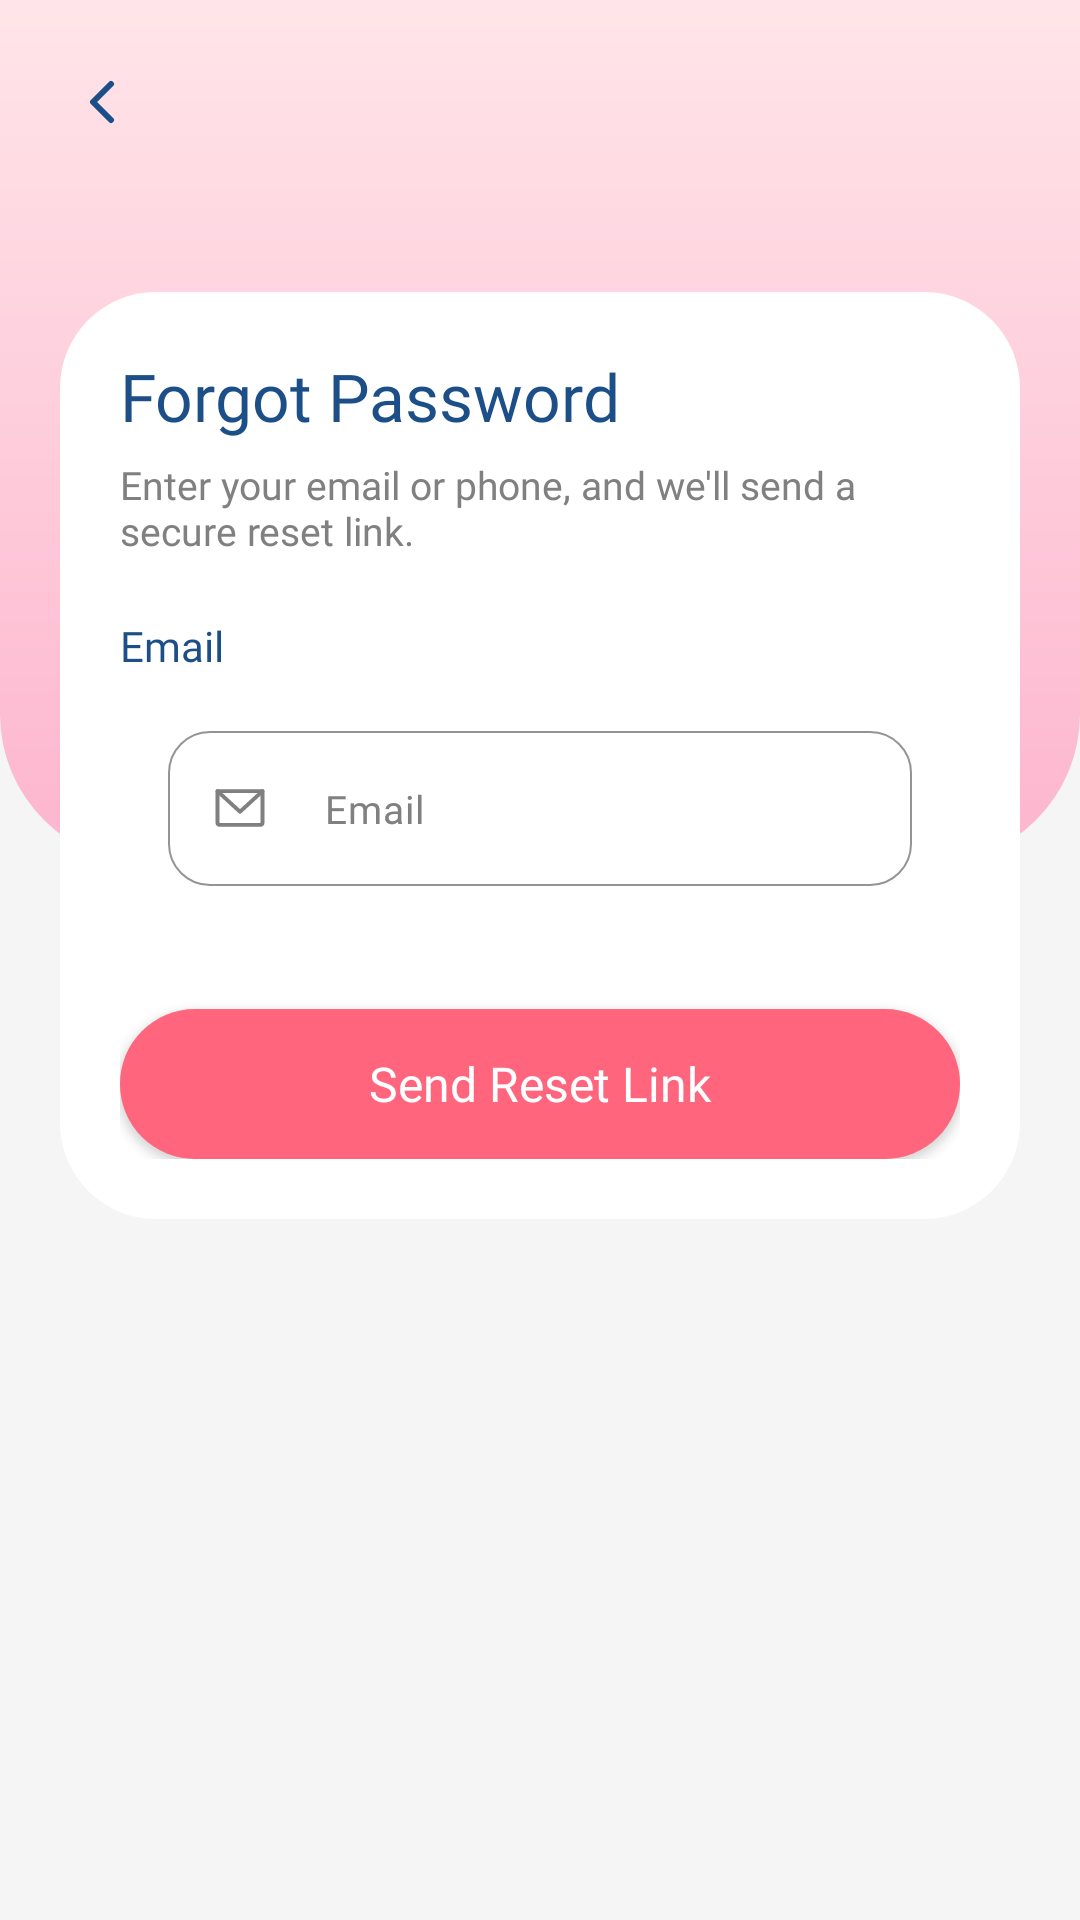

Point at icon controls on the screen. Image size 1080*1920, points as [x,y].
Back: [102,102]
